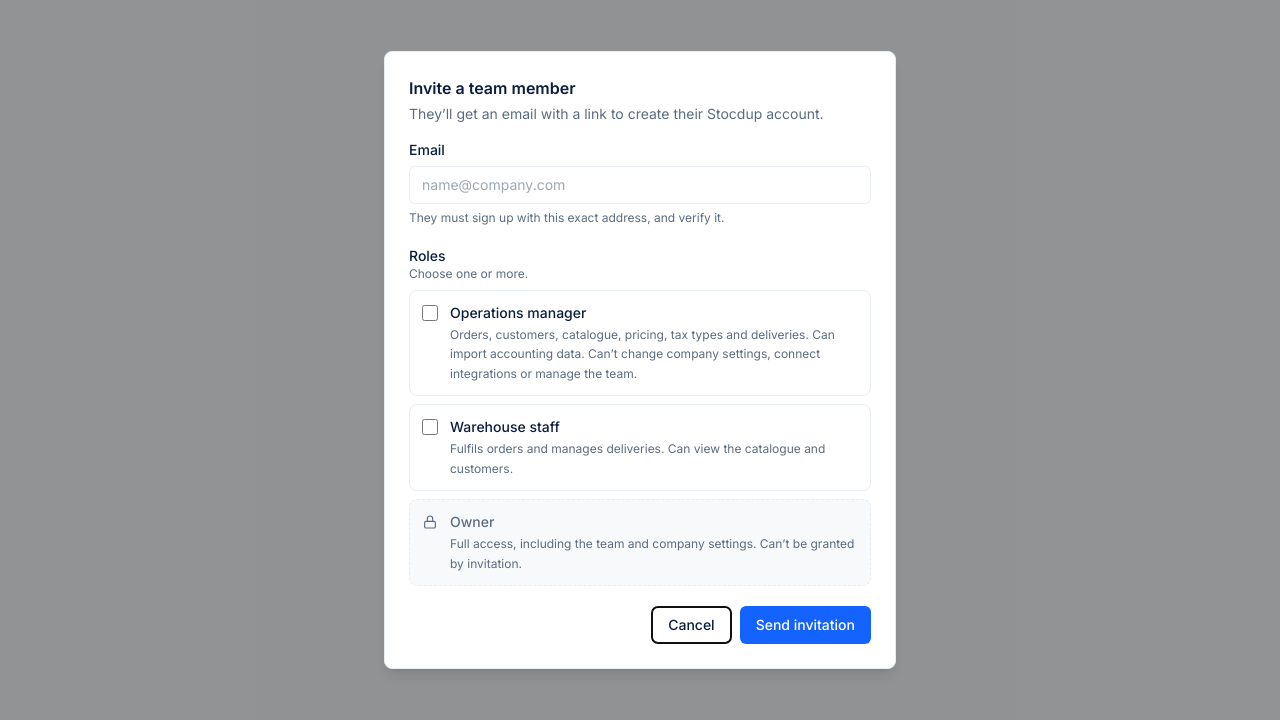
Test case: InviteTeamMemberModal › rejects the email not-an-email before sending
The image size is (1280, 720).
Step 1. Type "not-an-email" into the field labelled "Email" → (640, 185), box [409, 166, 871, 204]
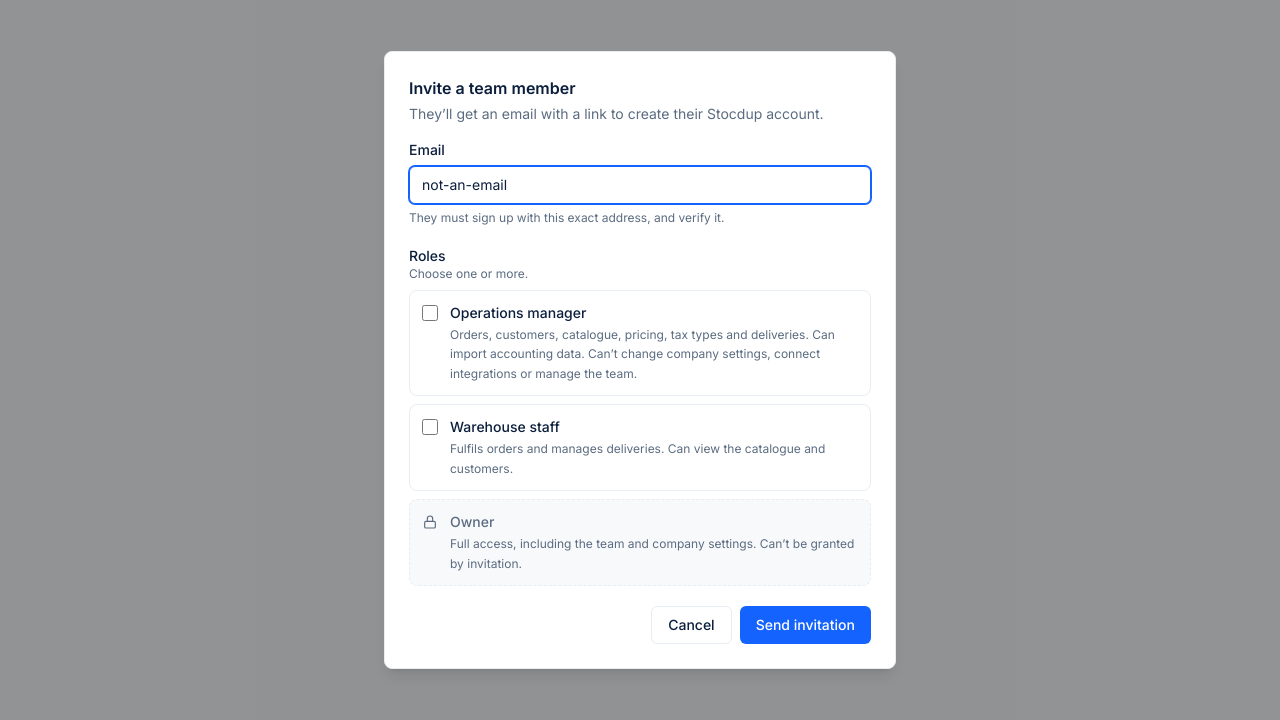
Step 2. Click the checkbox labelled "Warehouse staff" → (430, 427), box [422, 419, 438, 435]
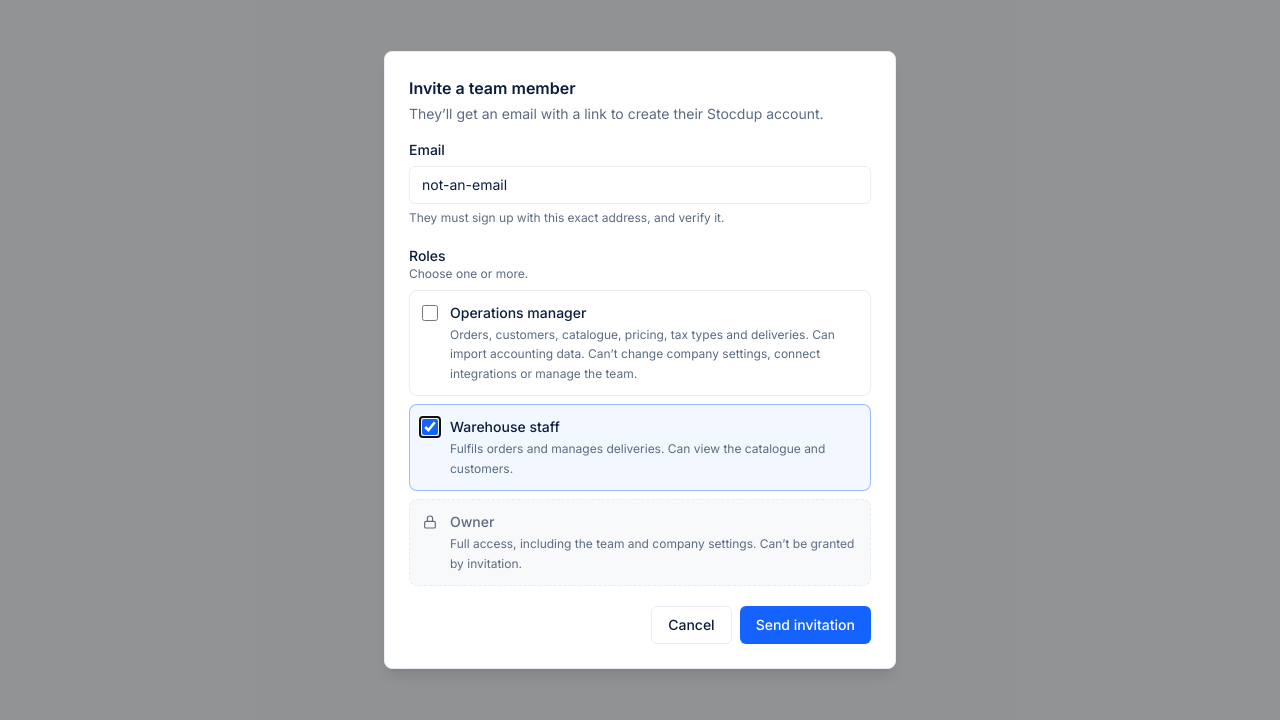
Step 3. Click the button "Send invitation" → (805, 625), box [740, 606, 871, 644]
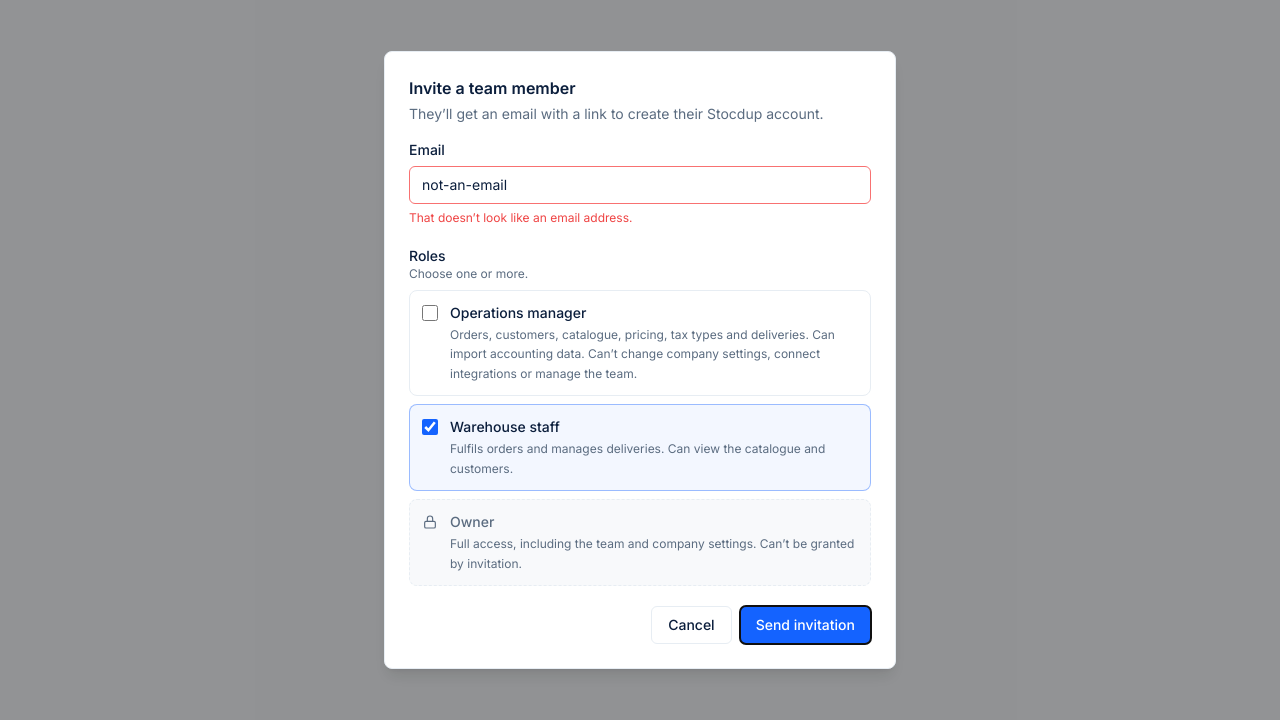
expect the text "That doesn’t look like an email address." is shown: met, box [409, 210, 632, 225]
